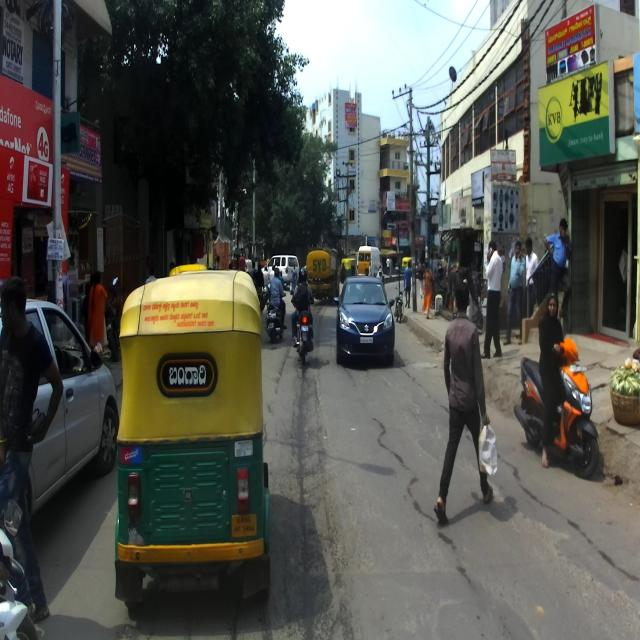autorickshaw: (114, 270, 272, 610)
car: (0, 296, 119, 528), (333, 276, 395, 367)
mini-bus: (356, 244, 382, 283)
motorcycle: (290, 290, 314, 364)
scooter: (513, 338, 599, 478), (265, 290, 286, 343)
